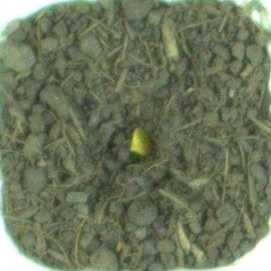chilli seed: (126, 125, 155, 158)
